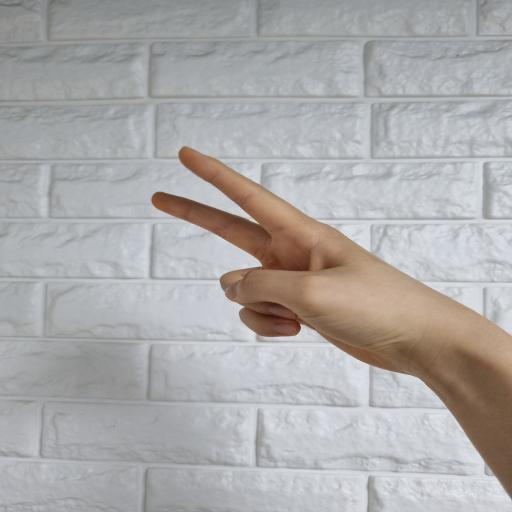Scissors: (150, 145, 444, 373)
